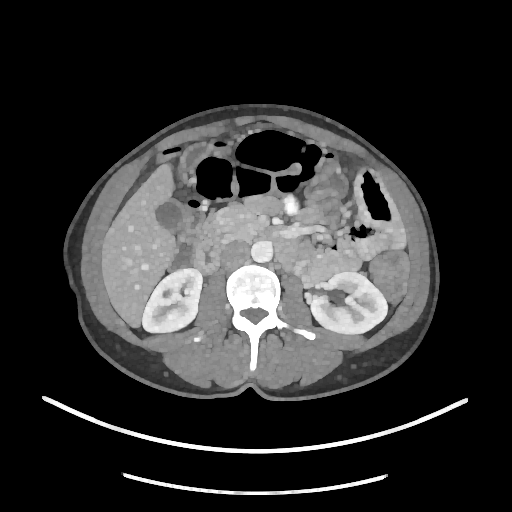Lesion: (160, 285, 177, 304)
